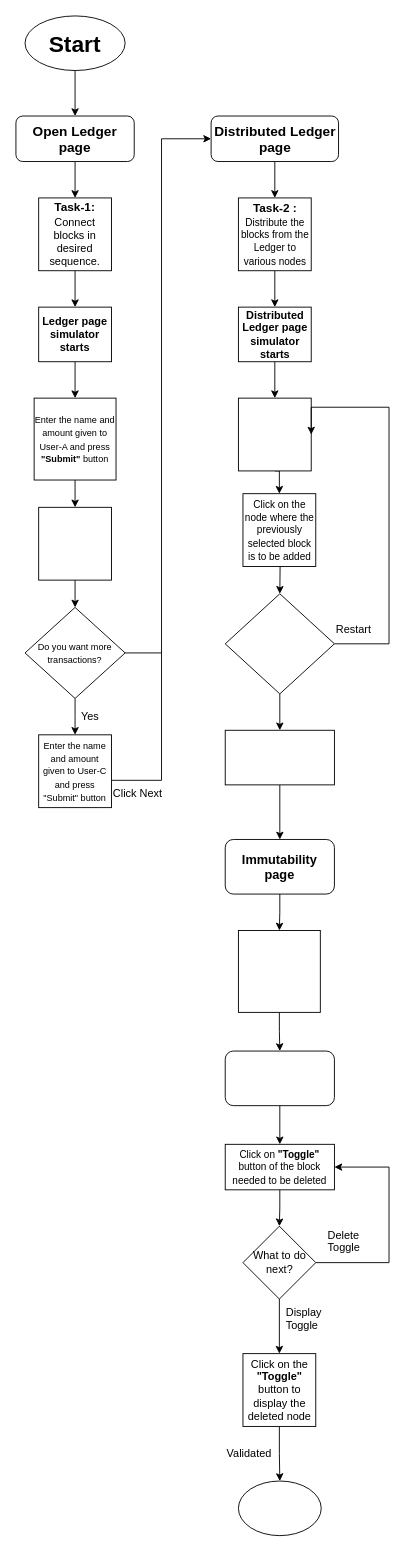
Image size: 412x1552. Some labels were removed from this diagram. Each missing label, with the centre of its shape:
Click on Next button: the point at 279,757
Click on the block that is to be sent to User-A,User-B and User-C: the point at 274,434
END: the point at 279,1508
Enter the name and amount given to User-B and press "Submit" button: the point at 74,543
Immutability page simulator starts: the point at 279,1078
Perform this method to verify Decentralization: the point at 279,643
Task-3 : Blocks which are connected cannot be deleted again: the point at 279,971
